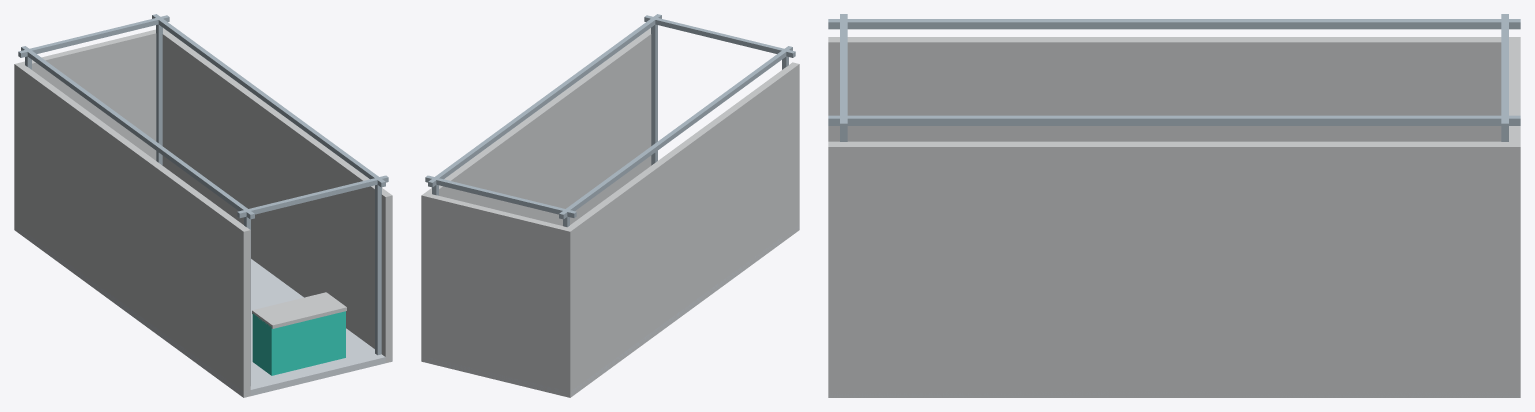
3 renders of one model, left to right at view 1: azimuth 30°, elevation 25°; view 2: azimuth 150°, elevation 25°; view 3: azimuth 270°, elevation 25°, orthographic. The views are drawn at different scales.
Visible parts, largest first — view 1: Exhibition Booth Concept; view 2: Exhibition Booth Concept; view 3: Exhibition Booth Concept.
Part boxes in pixels (<box>): Exhibition Booth Concept: <box>14,14,392,397</box>; Exhibition Booth Concept: <box>421,14,799,397</box>; Exhibition Booth Concept: <box>828,14,1520,397</box>.
Size of the model in its own units: 3 by 3.49 by 8.
